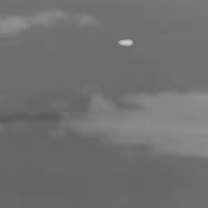Target: (117, 38, 134, 47)
